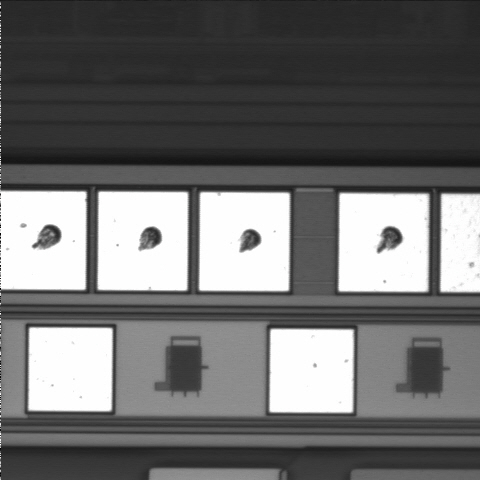pad: (199, 192, 290, 291), (339, 193, 429, 292), (98, 192, 188, 290), (270, 329, 354, 412), (29, 328, 112, 411)
